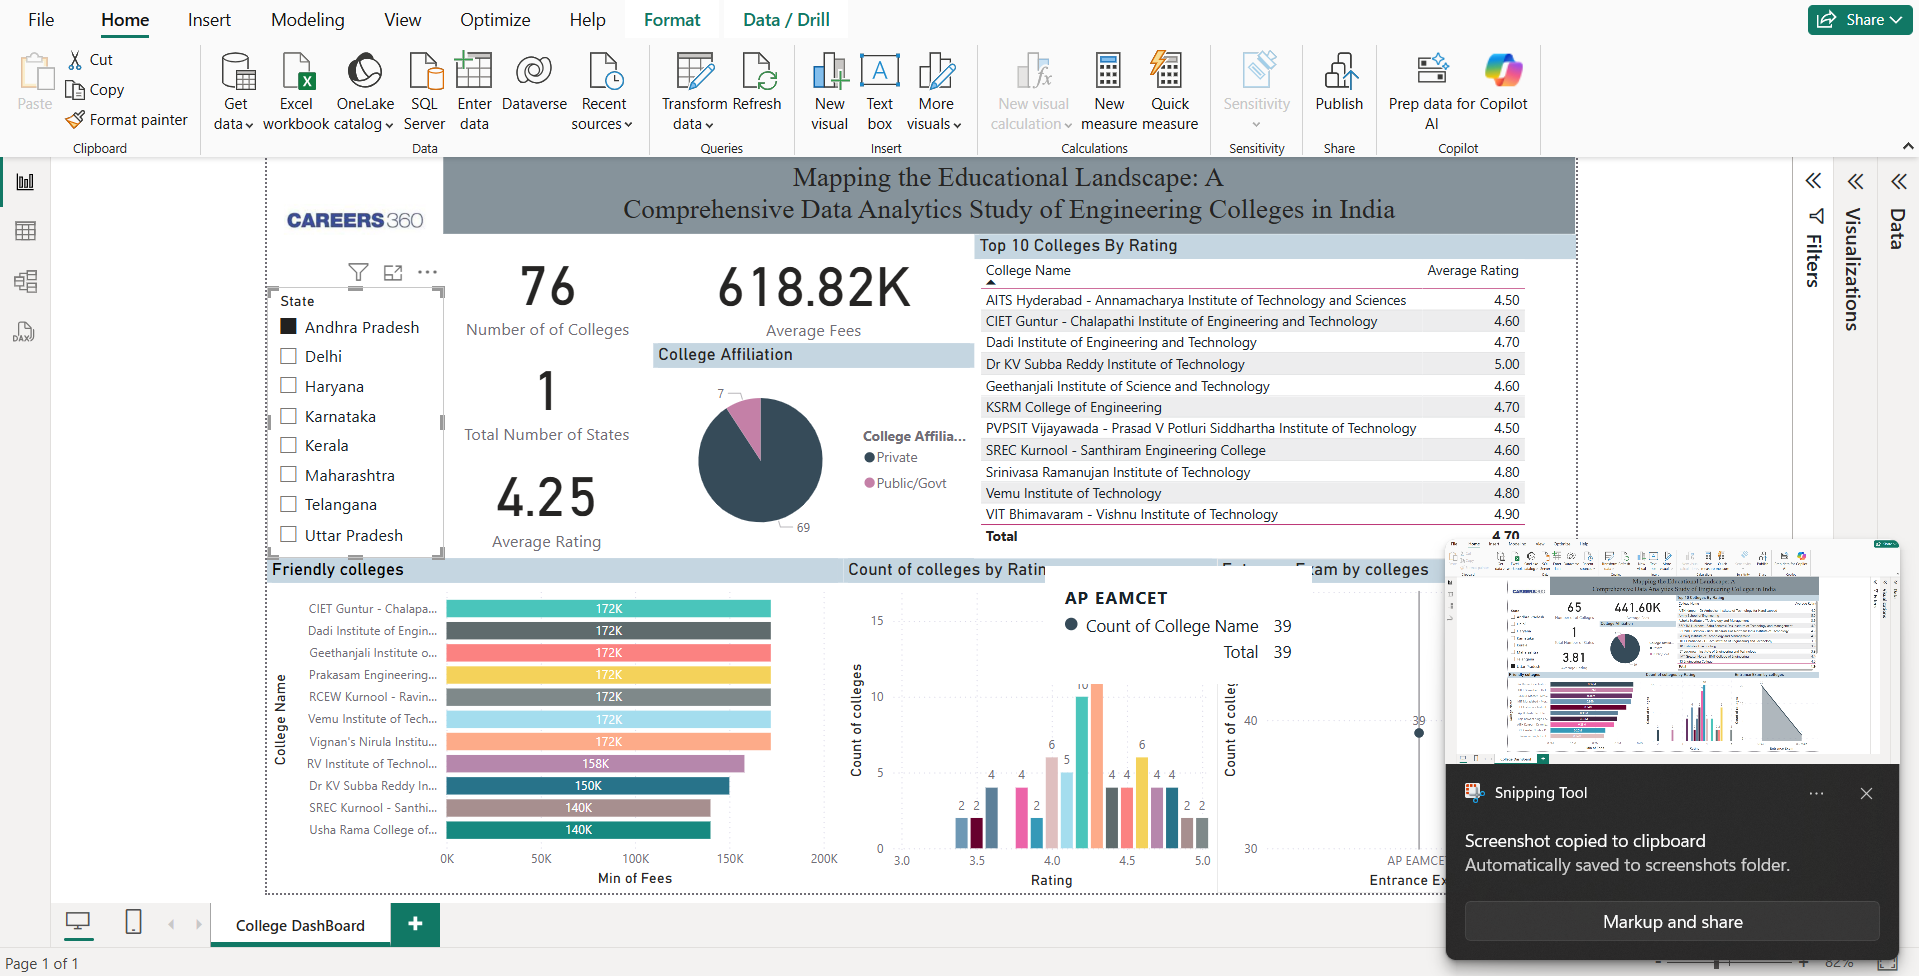

What the dashboard file says about the page in this screenshot:
{"tool":"powerbi","page":{"name":"College DashBoard","canvas":[1280,720],"ordinal":0},"visuals":[{"type":"card","fields":{"Values":["Sheet.Average_Fees"]},"box":[377.4,75.5,314.2,109.8],"z":0},{"type":"card","fields":{"Values":["College_data.Count_ccolleges"]},"box":[172.4,75.8,204.2,107.6],"z":1000},{"type":"card","fields":{"Values":["College_data.no_stares"]},"box":[172.9,182.5,203.1,100.2],"z":2000},{"type":"slicer","fields":{"Values":["College_data.State"]},"box":[0,127.6,172.9,264.8],"z":3000},{"type":"textbox","box":[172.9,0,1107.4,75.5],"z":4000},{"type":"pieChart","title":"College Affiliation","fields":{"Category":["College_data.College Affiliation"],"Y":["College_data.Number of of Colleges"]},"box":[377.4,182.5,314.2,209.9],"z":5000},{"type":"card","fields":{"Values":["College_data.Average Rating"]},"box":[172.9,282.7,203.1,108.4],"z":6000},{"type":"columnChart","title":"Count of colleges by Rating","fields":{"Category":["Sheet.Rating"],"Y":["CountNonNull(Sheet.College Name)"],"Series":["Sheet.Rating"]},"box":[563.7,392.5,365.6,327.7],"z":7000},{"type":"barChart","title":"Friendly colleges","fields":{"Category":["College_data.College Name"],"Series":["College_data.College Name"],"Y":["Min(College_data.Fees)"]},"box":[0,392.5,563.7,326.5],"z":8000},{"type":"stackedAreaChart","title":"Entrance Exam by colleges","fields":{"Category":["Sheet.Entrance Exam"],"Y":["Count(College_data.College Name)"]},"box":[929.4,392.5,351,327.7],"z":9000},{"type":"image","box":[0,0,172.4,122.3],"z":10000},{"type":"tableEx","title":"Top 10 Colleges By Rating","fields":{"Values":["College_data.College Name","College_data.Average Rating"]},"box":[691.6,75.5,588.7,317],"z":11000}]}

Visuals, with their boxes on the page's 1280x720 design canvas (x1, y1, x2, y2). These are canvas units, not pixel positions in the 1919x976 screenshot, which may show the page scaled, cropped or inside an application window:
card - Sheet.Average_Fees: detection(377, 76, 692, 185)
card - College_data.Count_ccolleges: detection(172, 76, 377, 183)
card - College_data.no_stares: detection(173, 182, 376, 283)
slicer - College_data.State: detection(0, 128, 173, 392)
textbox: detection(173, 0, 1280, 76)
"College Affiliation" pieChart: detection(377, 182, 692, 392)
card - College_data.Average Rating: detection(173, 283, 376, 391)
"Count of colleges by Rating" columnChart: detection(564, 392, 929, 720)
"Friendly colleges" barChart: detection(0, 392, 564, 719)
"Entrance Exam by colleges" stackedAreaChart: detection(929, 392, 1280, 720)
image: detection(0, 0, 172, 122)
"Top 10 Colleges By Rating" tableEx: detection(692, 76, 1280, 392)
